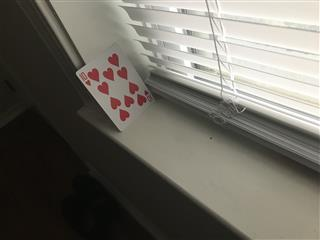TenOfHearts: (74, 42, 157, 132)
